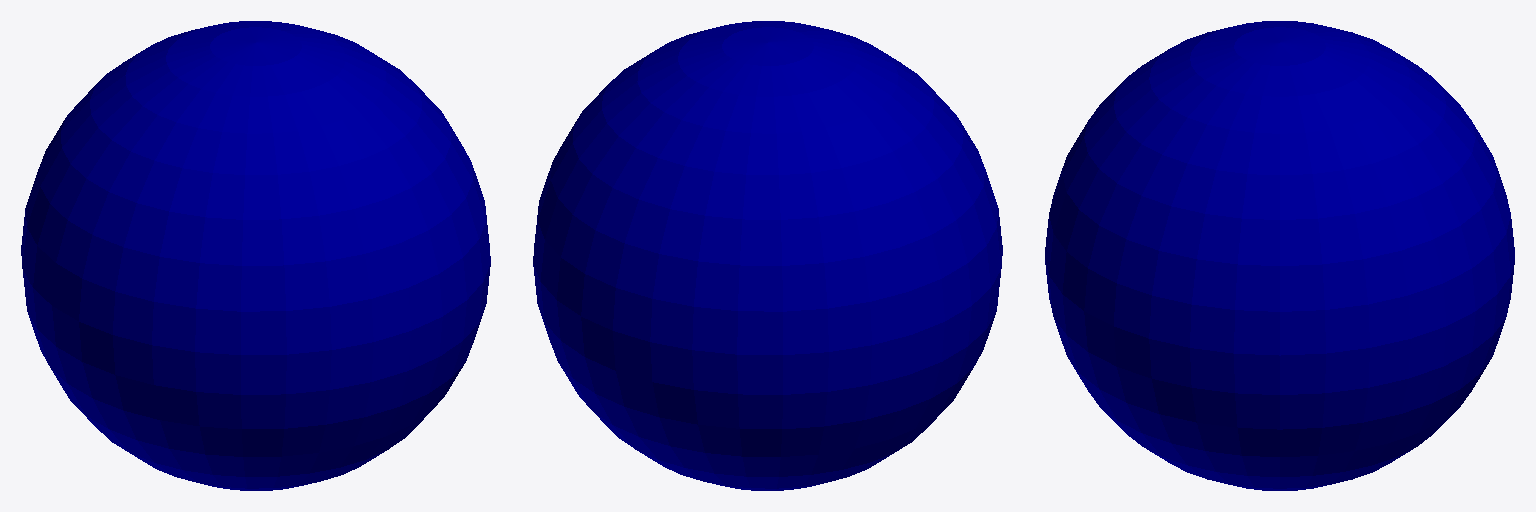
The model's file is bala.obj.
3 renders of one model, left to right at view 1: azimuth 30°, elevation 25°; view 2: azimuth 150°, elevation 25°; view 3: azimuth 270°, elevation 25°, orthographic.
Parts seen in each view (by area): view 1: Sphere; view 2: Sphere; view 3: Sphere.
Boxes of the visible parts, x1=… form: Sphere: x1=21, y1=21, x2=490, y2=490; Sphere: x1=533, y1=21, x2=1002, y2=490; Sphere: x1=1045, y1=21, x2=1514, y2=490.
Size of the model in its own units: 0.6 by 0.6 by 0.6.